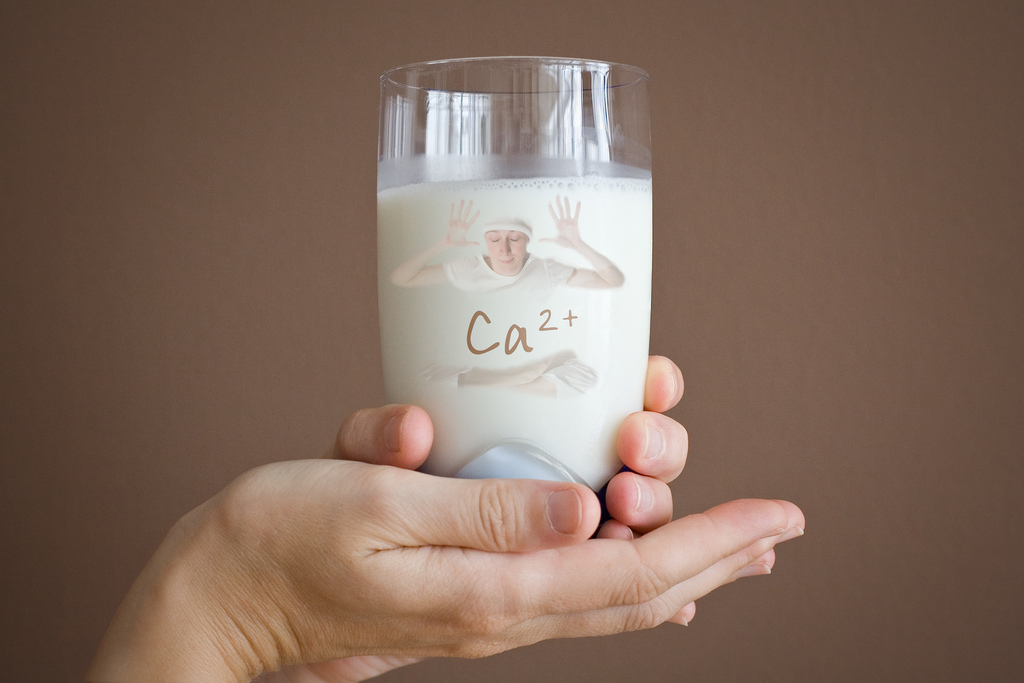glass of milk: (386, 74, 634, 482)
